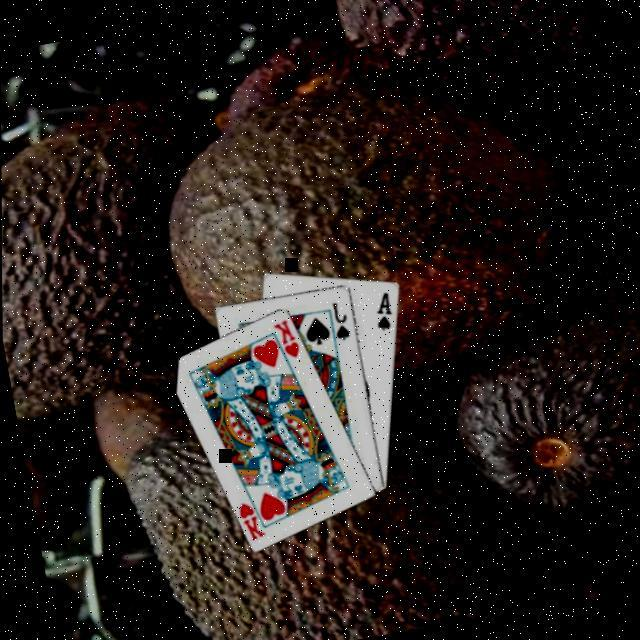AS: (366, 287, 395, 332)
JS: (324, 296, 351, 343)
KH: (231, 496, 266, 544), (267, 314, 300, 362)
